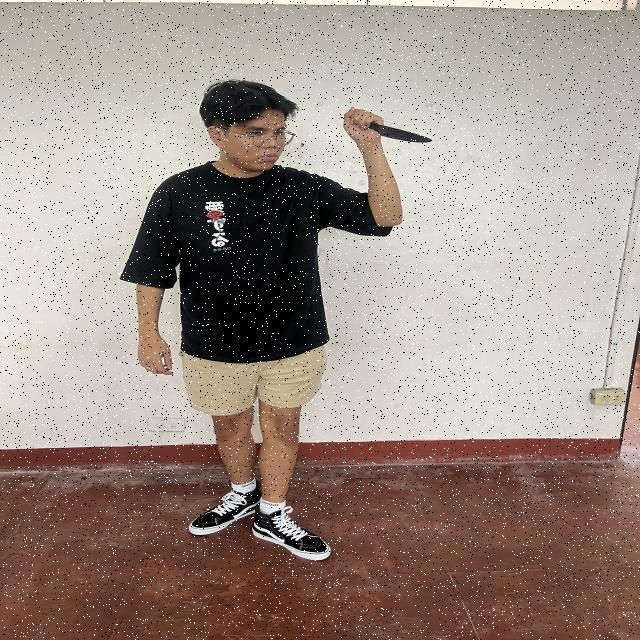knife: (342, 115, 432, 144)
non-violence: (119, 80, 434, 560)
